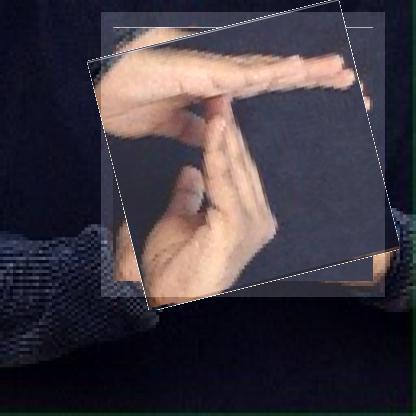Z: (101, 12, 386, 298)
